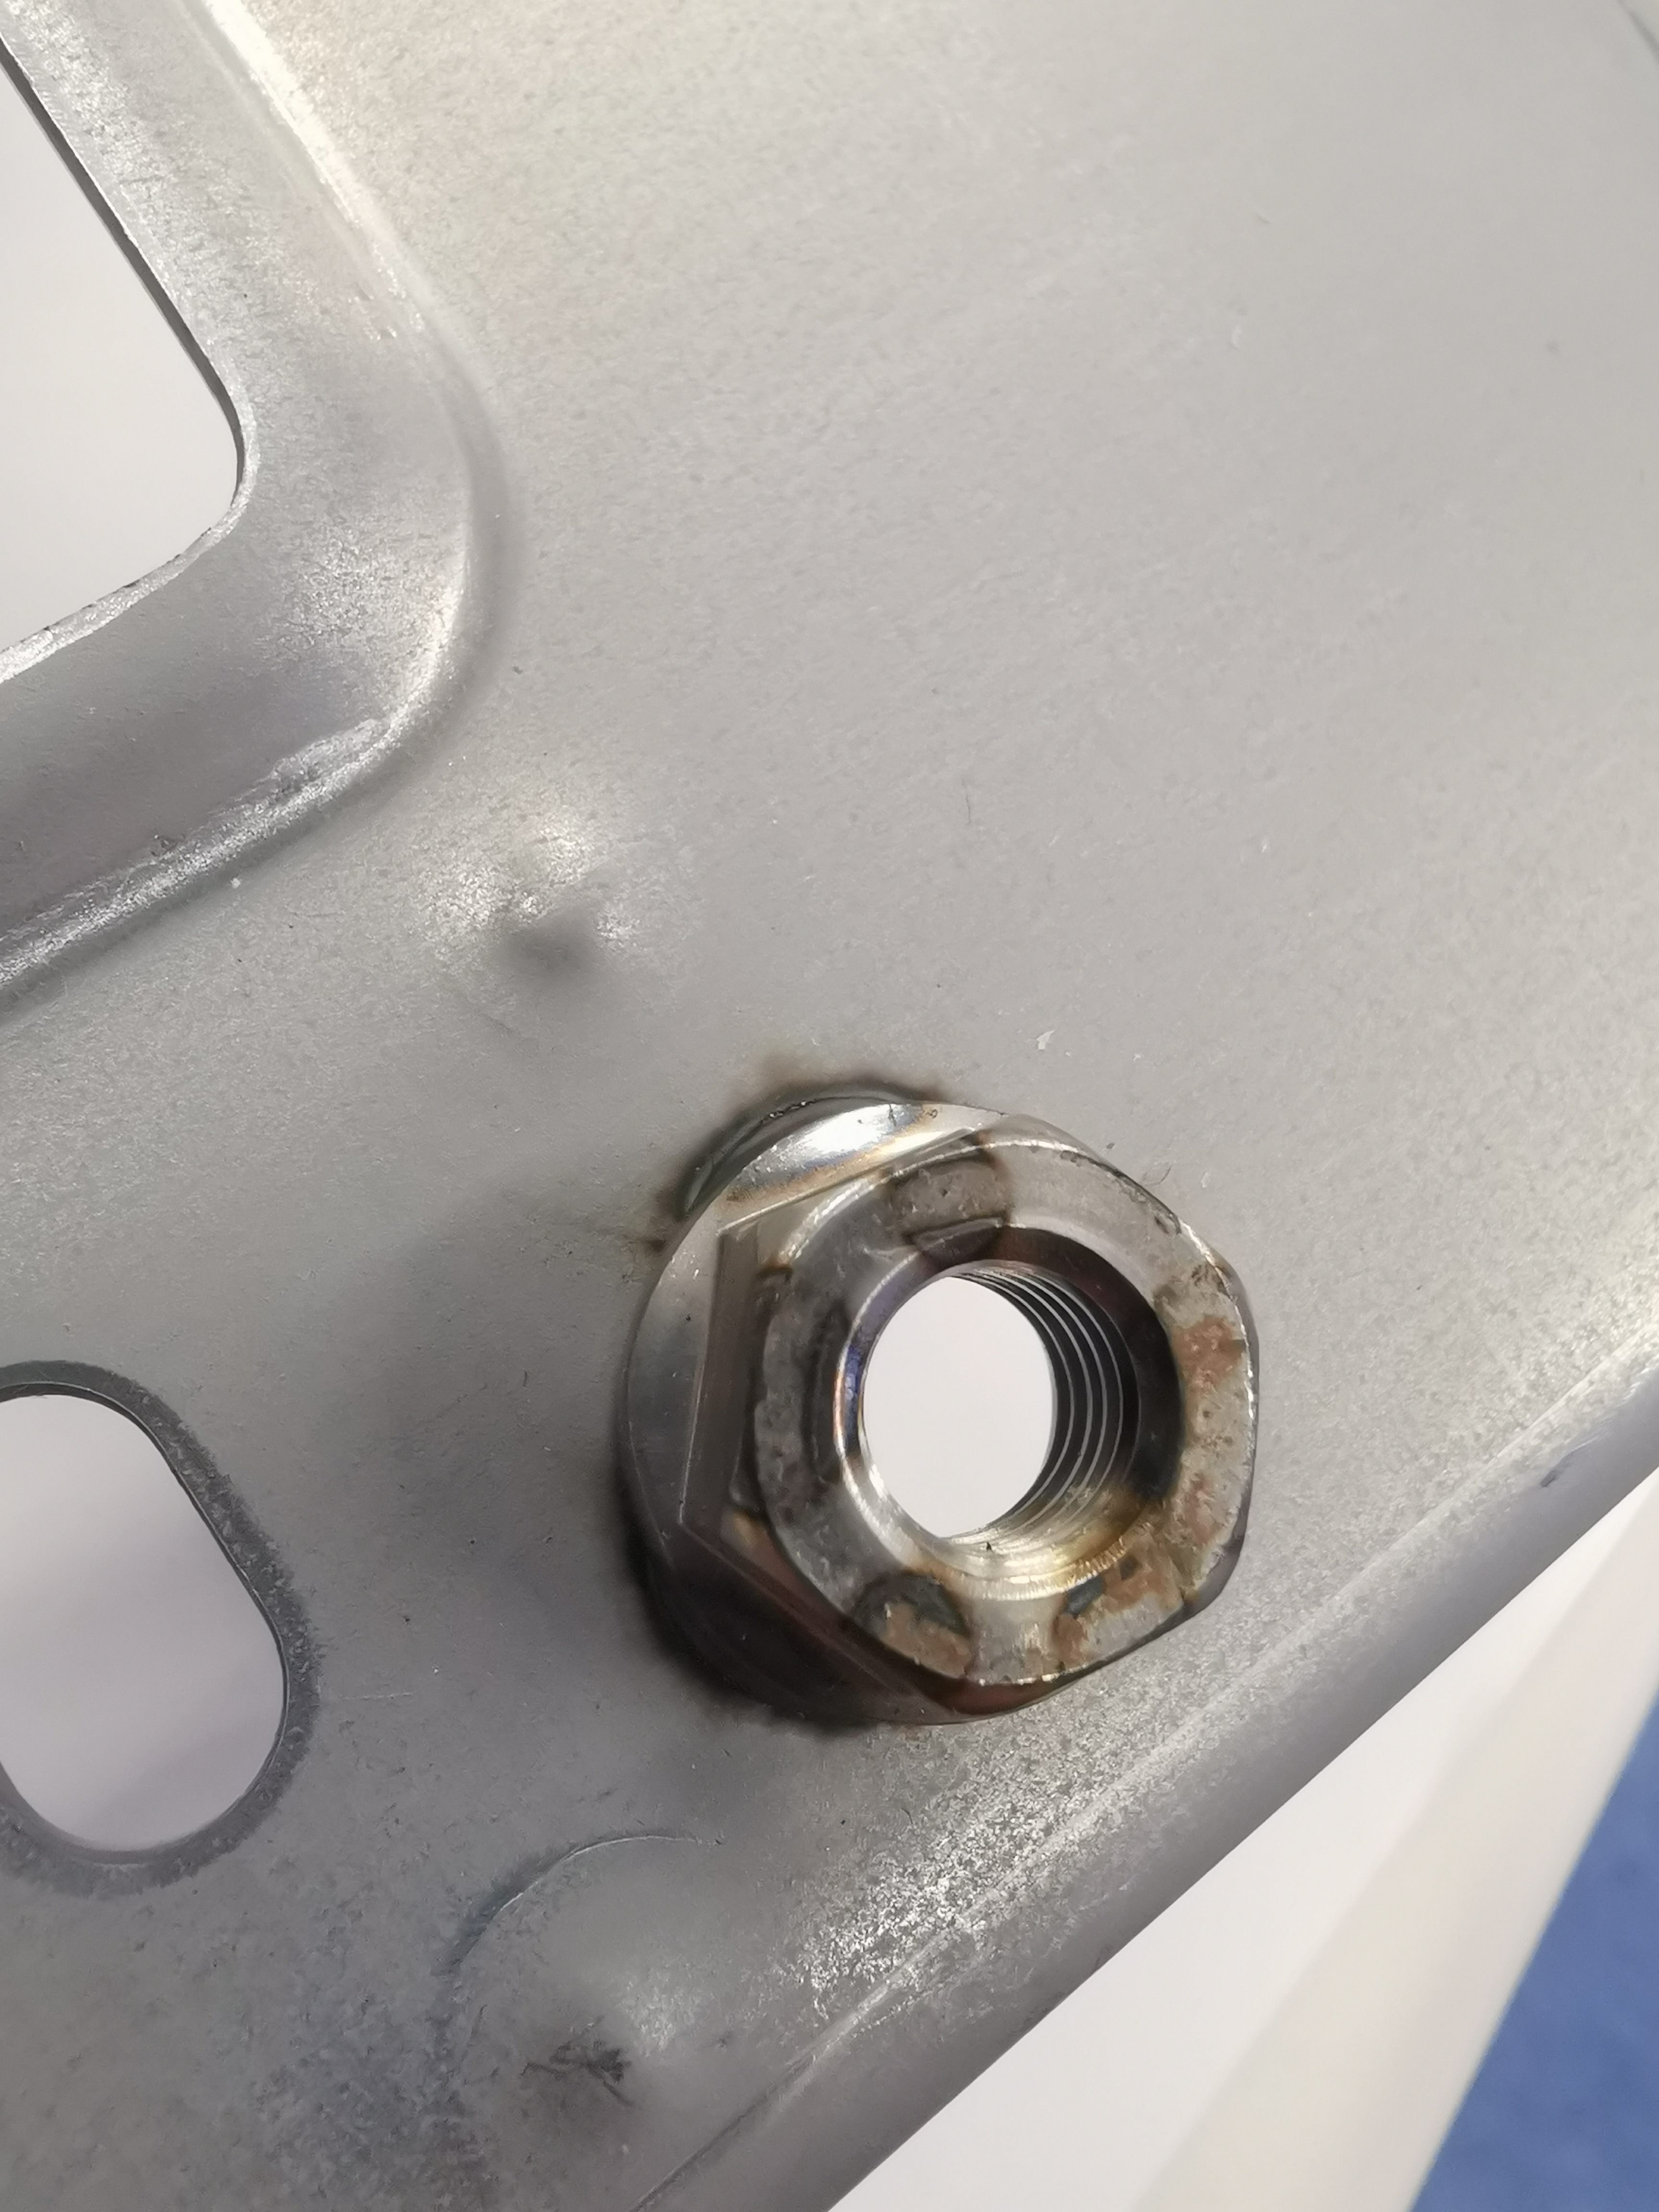dog: (592, 1064, 1274, 1745)
